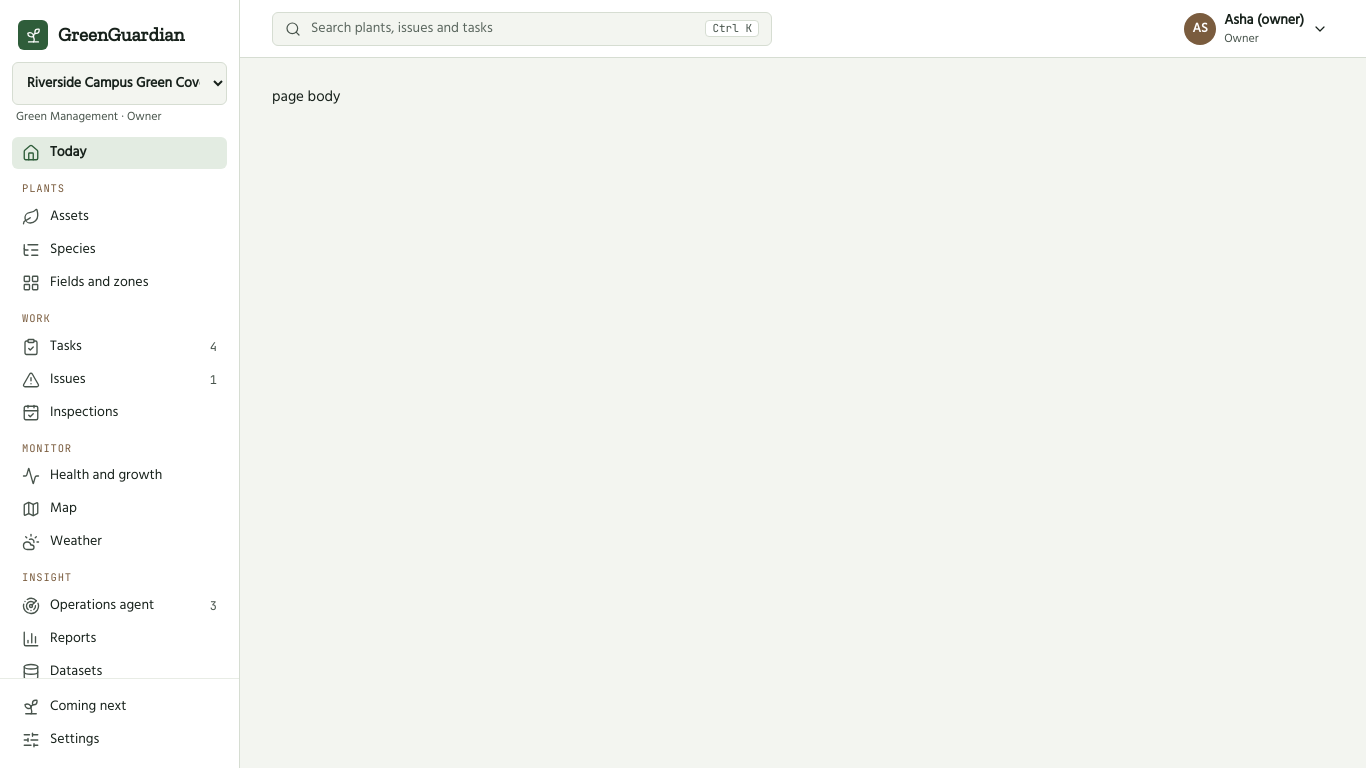
Test case: workspace frame › search asks for two letters before it queries anything
Type "n" into the search field named "Search". click: (503, 28)
box: top-left (311, 18), bottom-right (695, 38)
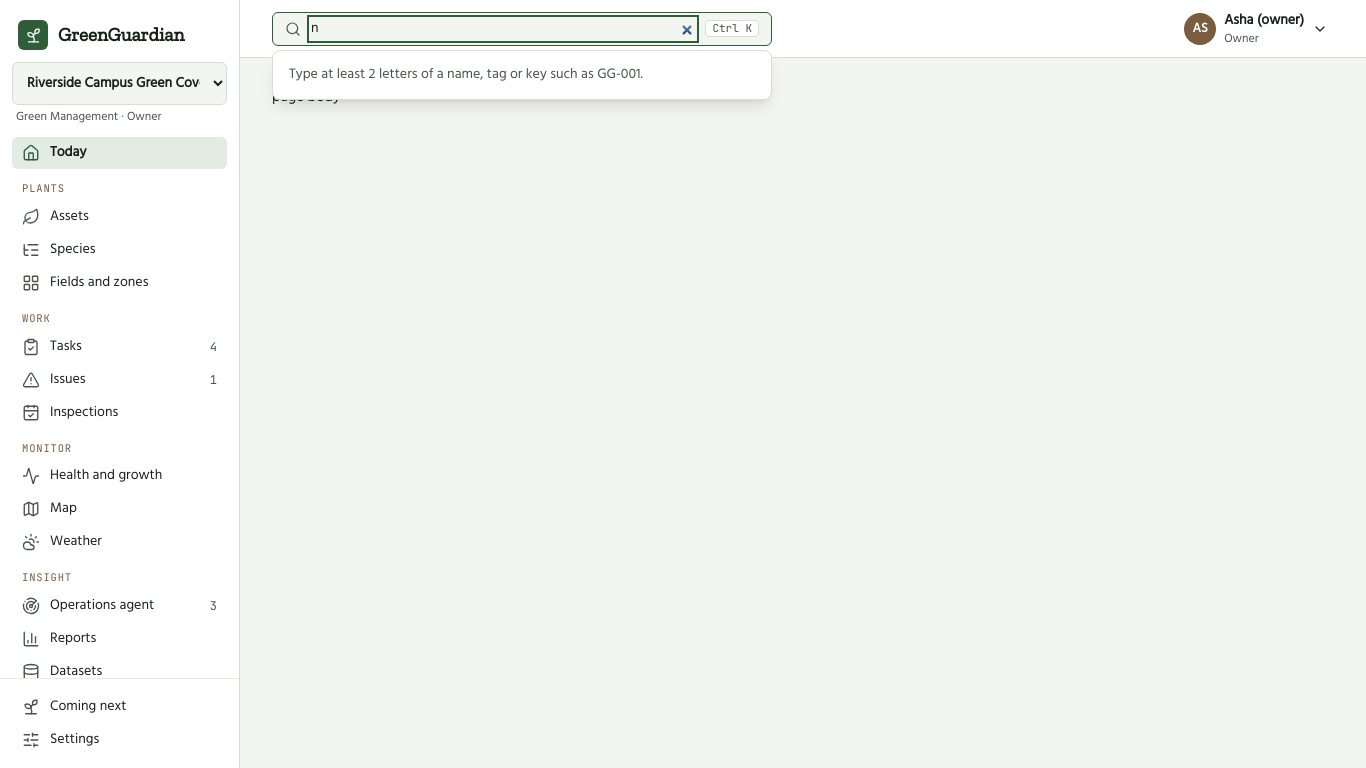
Expected: the text "at least 2 letters" is shown, top-left (289, 62), bottom-right (643, 86)
